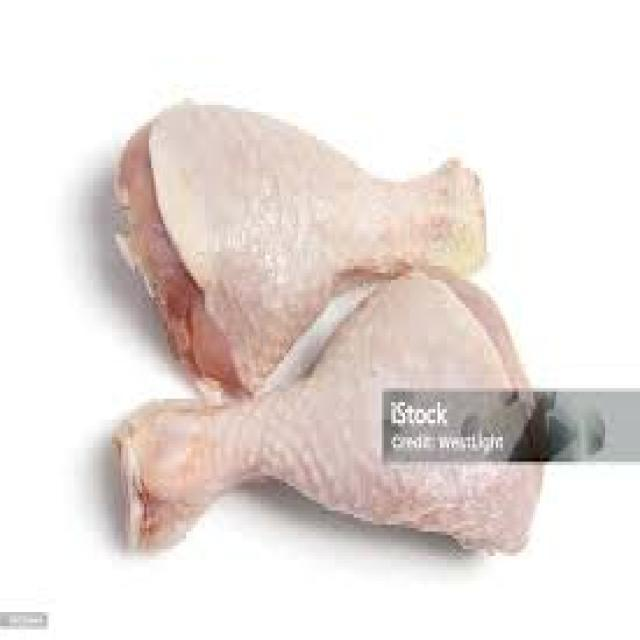leg: (113, 276, 530, 578), (106, 88, 510, 378)
